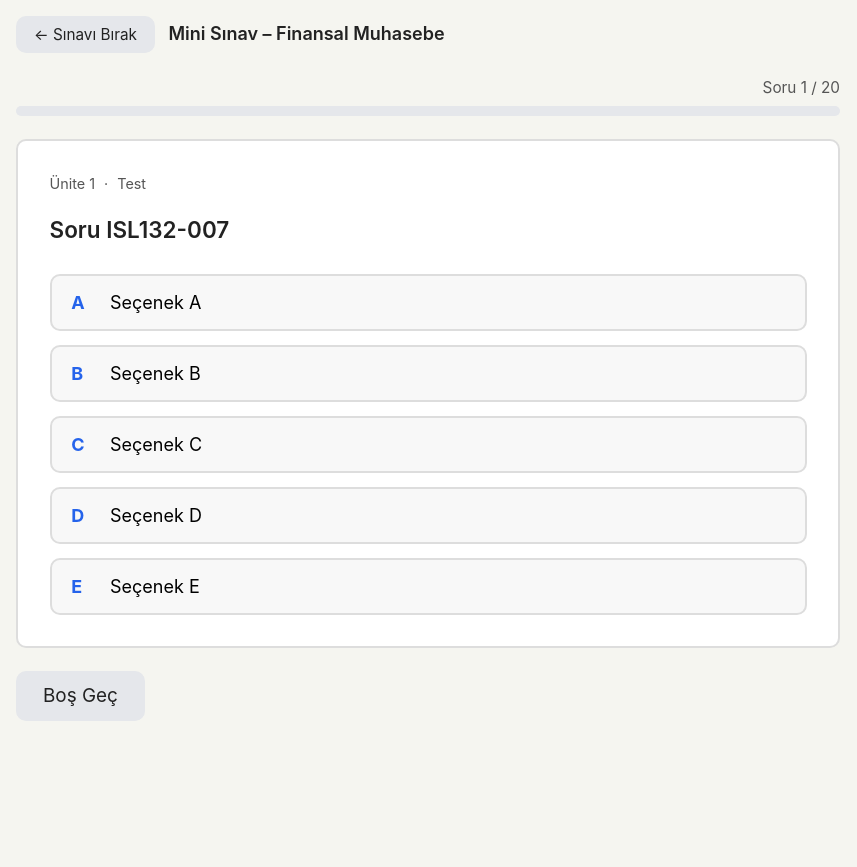
MiniSinav — yeterli soru senaryosu › cevap verildikten sonra aynı soruda seçenek değiştirilemez (butonlar disabled)
Click the button "A Seçenek A".
click(156, 303)  # box [50, 274, 806, 332]
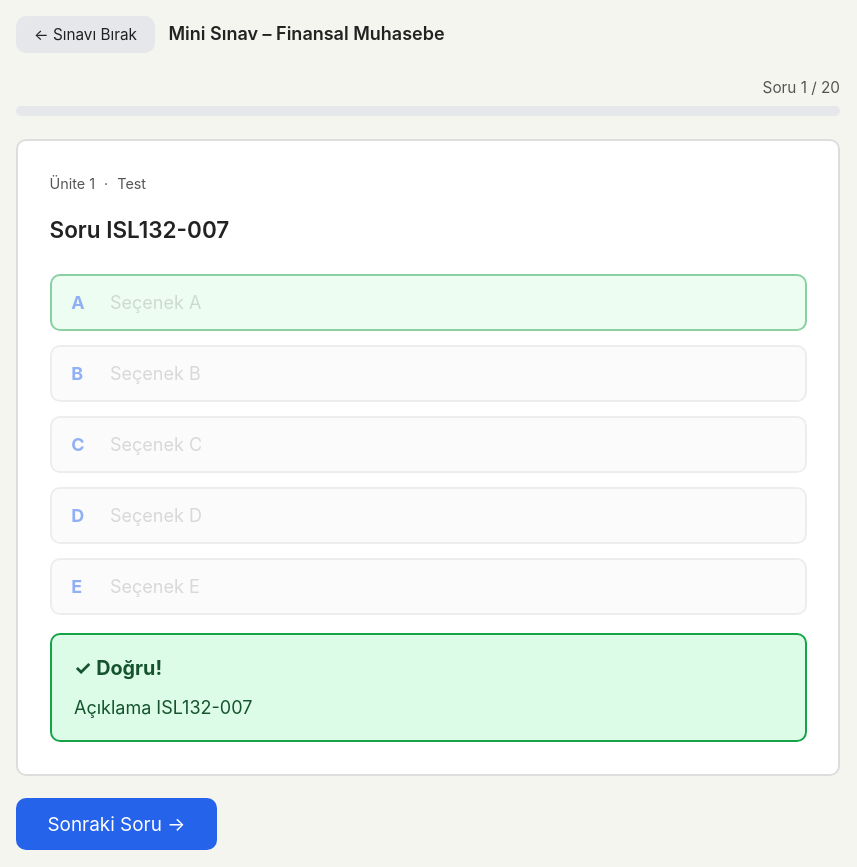
Result: the button "A Seçenek A" is disabled at [50, 274, 806, 332]
Result: the button "B Seçenek B" is disabled at [50, 345, 806, 402]
Result: the button "C Seçenek C" is disabled at [50, 416, 806, 473]
